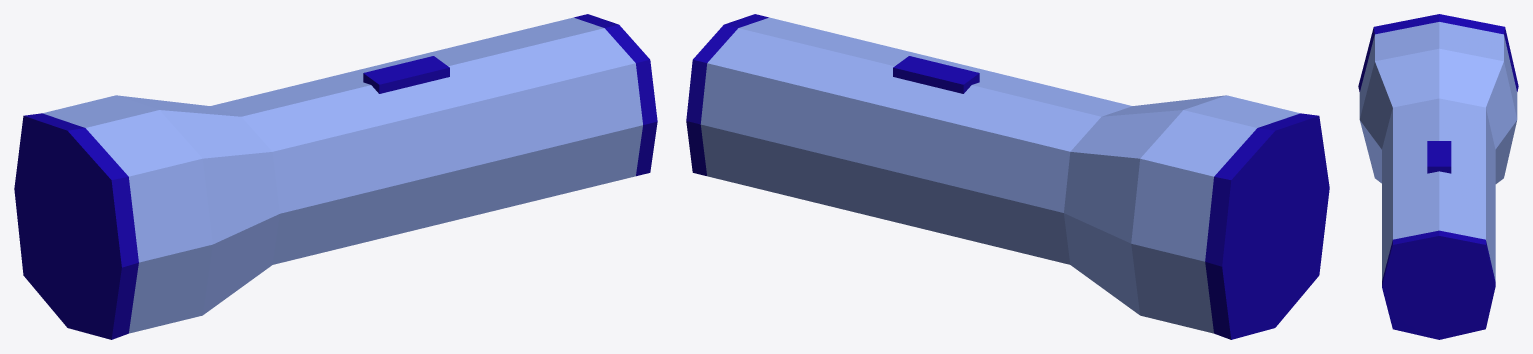
The model's file is flashlight2.fbx.
3 views of the same model, side by side, from view 1: azimuth 30°, elevation 25°; view 2: azimuth 150°, elevation 25°; view 3: azimuth 270°, elevation 25° (orthographic). The views are drawn at different scales.
Visible parts, largest first — view 1: Cube; view 2: Cube; view 3: Cube.
Boxes of the visible parts, <box> form: Cube: <box>14,14,657,339</box>; Cube: <box>686,14,1329,339</box>; Cube: <box>1358,14,1518,339</box>.
Size of the model in its own units: 452 by 155 by 153.
